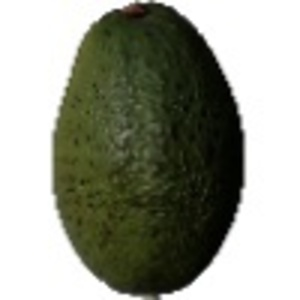abacate: (48, 1, 251, 294)
